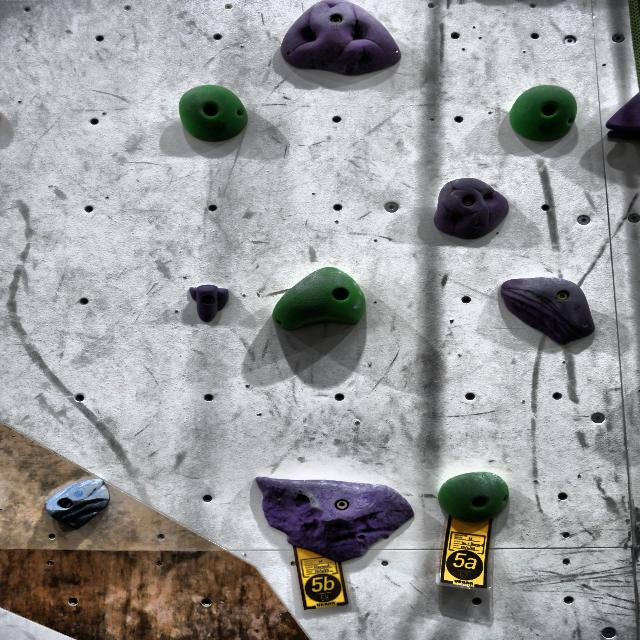Hold: (242, 472, 412, 566), (284, 0, 406, 86), (265, 254, 376, 340), (496, 272, 594, 344), (426, 173, 514, 242), (176, 81, 255, 142), (512, 82, 581, 148), (435, 466, 511, 524), (41, 470, 115, 527), (607, 87, 640, 153), (184, 283, 230, 327)
